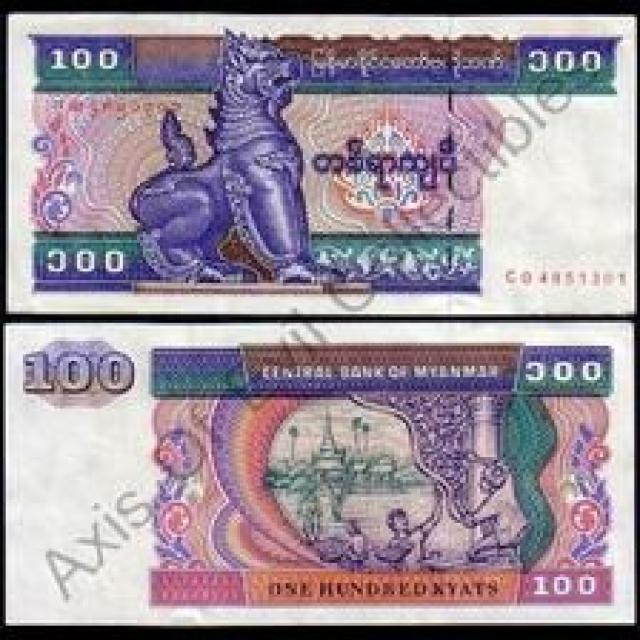banknote: (0, 317, 637, 626), (3, 14, 637, 314)
